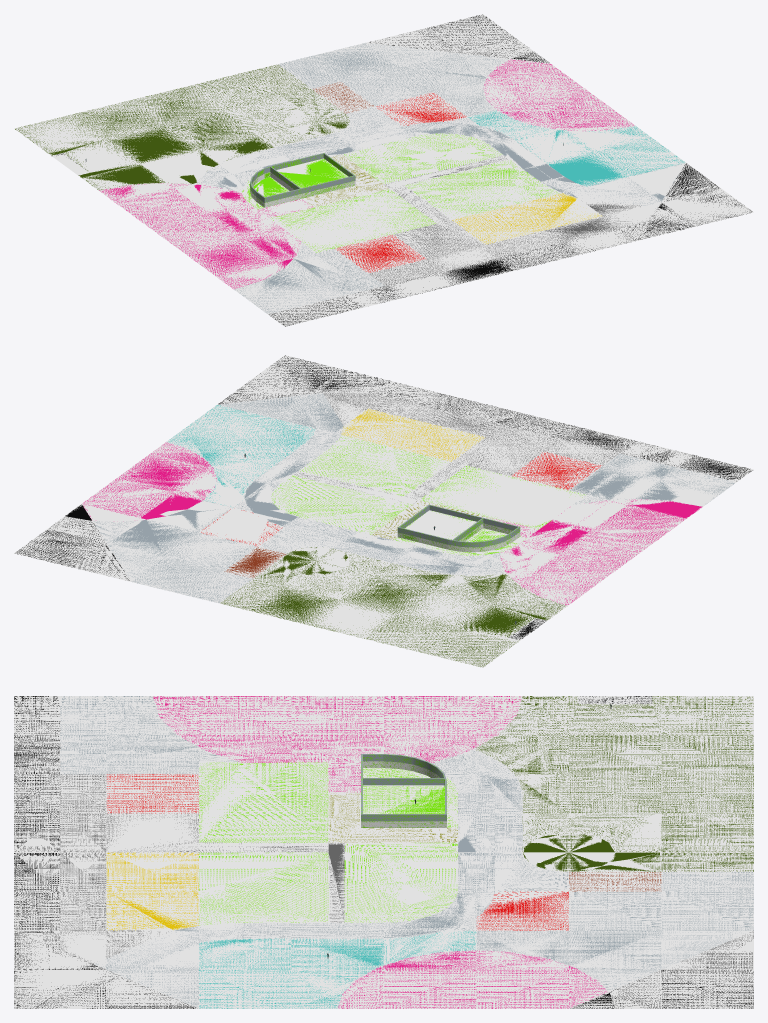
The model's file is FBXMapa_2.fbx.
The picture shows the model from 3 angles, top to bottom: view 1: azimuth 30°, elevation 25°; view 2: azimuth 150°, elevation 25°; view 3: azimuth 270°, elevation 25°; orthographic projection. The views are drawn at different scales.
Parts seen in each view (by area): view 1: Model; view 2: Model; view 3: Model.
Boxes of the visible parts, box(x1,y1,x2,y2) form: Model: box(14, 14, 753, 326); Model: box(14, 355, 753, 667); Model: box(14, 696, 753, 1008).
Size of the model in its own units: 200 by 4 by 200.
